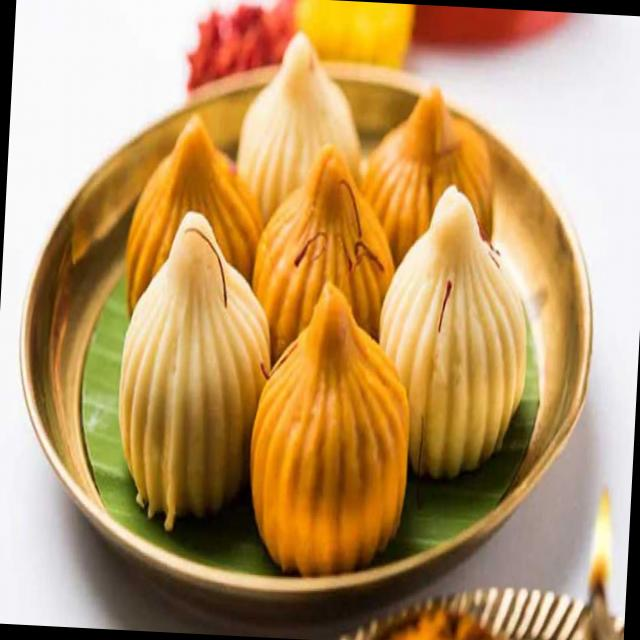modak: (137, 105, 467, 548)
